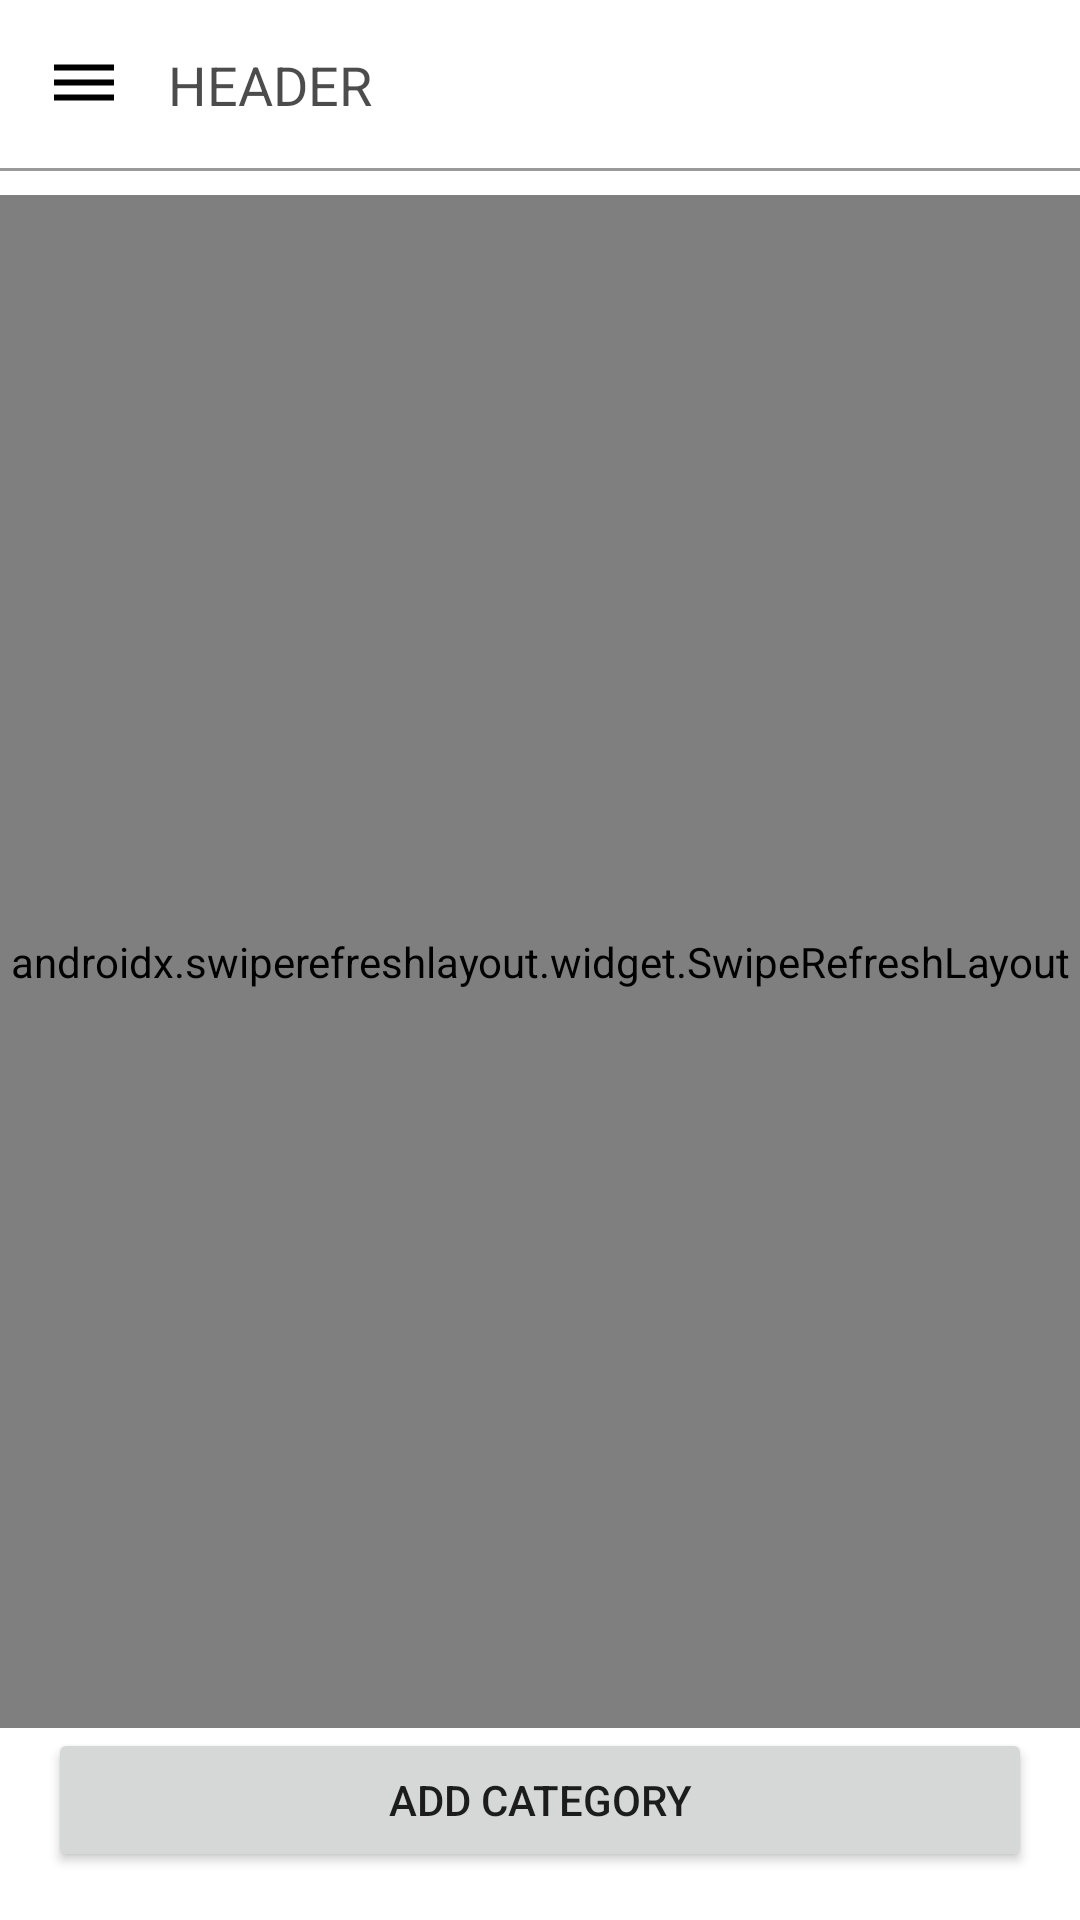

Where to tap for icons on this 1080*1920 app screen, as (x,y):
menu: (84,82)
